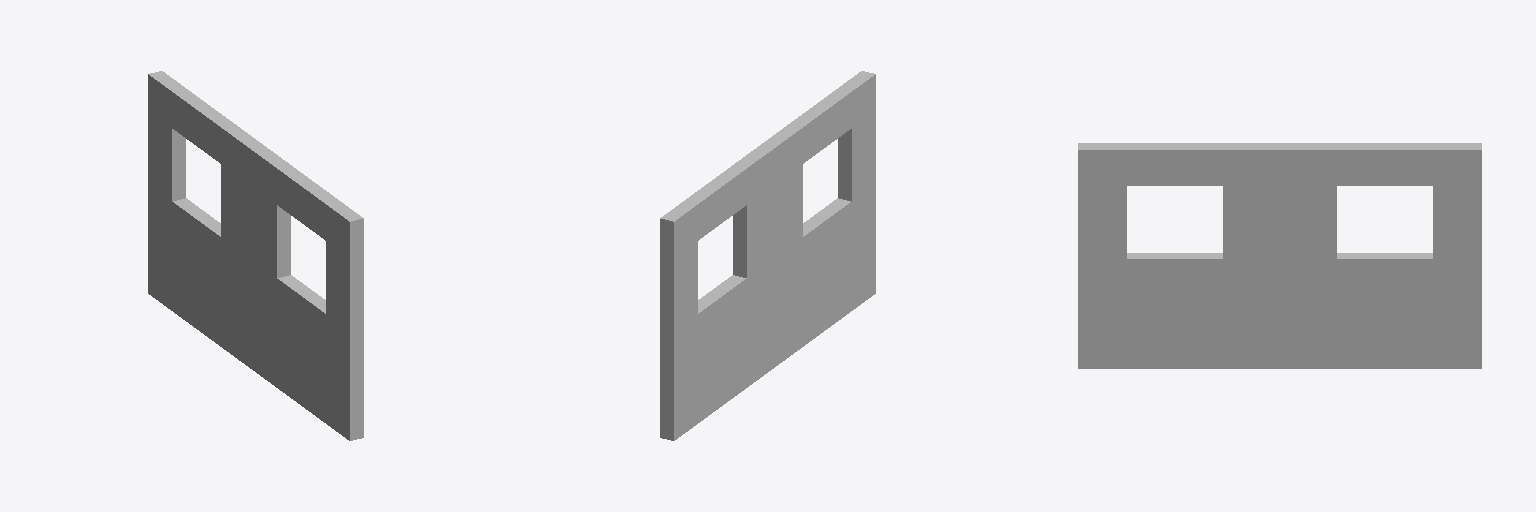
The model's file is wall_5x3_windows_empty.obj.
3 renders of one model, left to right at view 1: azimuth 30°, elevation 25°; view 2: azimuth 150°, elevation 25°; view 3: azimuth 270°, elevation 25°, orthographic.
Parts seen in each view (by area): view 1: Wall; view 2: Wall; view 3: Wall.
Boxes of the visible parts, box(x1,y1,x2,y2) form: Wall: box(148, 71, 363, 440); Wall: box(660, 71, 875, 440); Wall: box(1078, 143, 1481, 368).
Size of the model in its own units: 0.2 by 3 by 5.